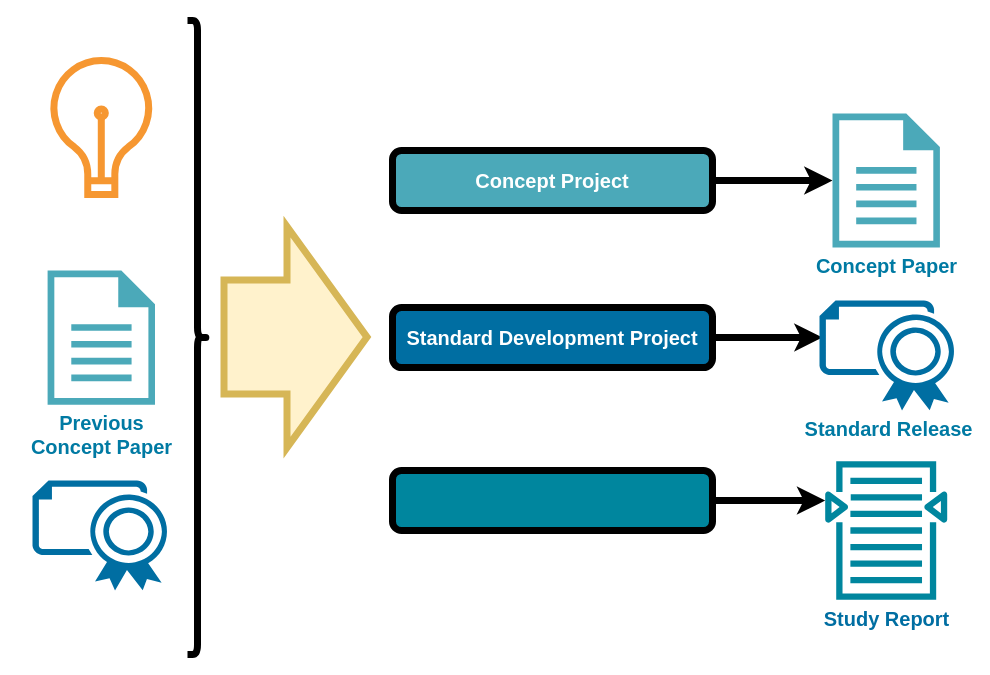
This 990x675 diagram has some shape labels left out. The shapes that lost their labels are listed below. From the top down, each one's centre as x and y in pixels, then its label:
At pixel 101 126: "Outside idea".
At pixel 552 500: "Study Project".
At pixel 101 535: "Previous Standard Release".
